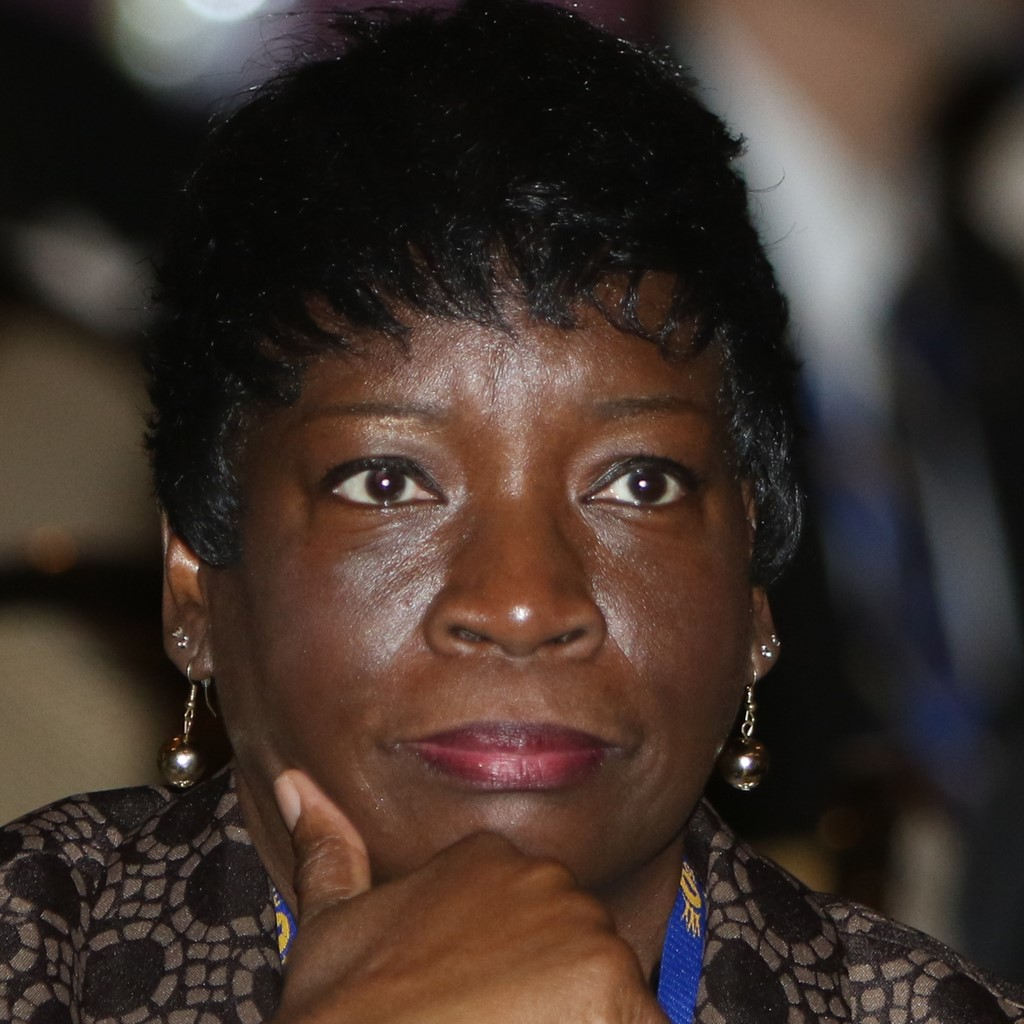sin_mascara: (216, 237, 753, 893)
